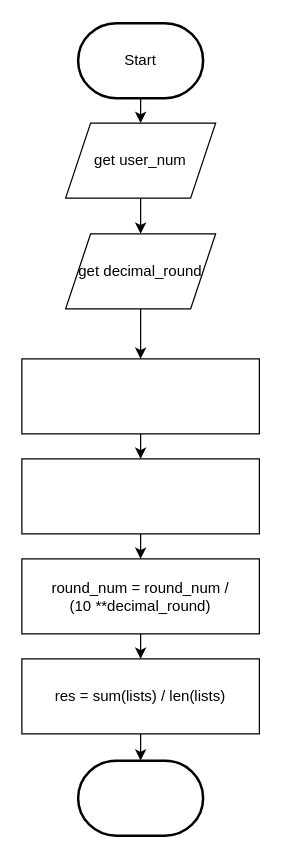
This 281x858 diagram has some shape labels left out. Each missing label, with the centre of its shape:
round_num = (user_num[0] * (10 **decimal_round): the point at 140,396
round_num = int(round_num): the point at 140,496
Stop: the point at 140,797
